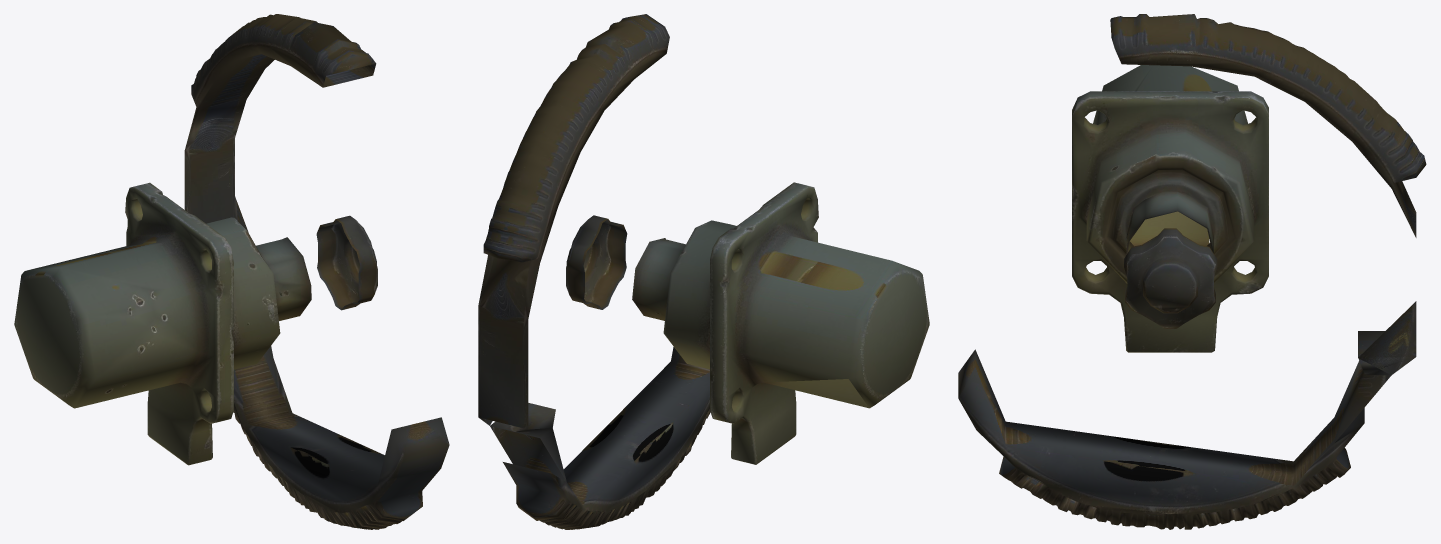
The model's file is trimwheel_remesh.glb.
3 renders of one model, left to right at view 1: azimuth 30°, elevation 25°; view 2: azimuth 150°, elevation 25°; view 3: azimuth 270°, elevation 25°, orthographic. The views are drawn at different scales.
Parts seen in each view (by area): view 1: tripo_node_008ce9b4-87fa-46de-b7b6-10154; view 2: tripo_node_008ce9b4-87fa-46de-b7b6-10154; view 3: tripo_node_008ce9b4-87fa-46de-b7b6-10154.
Part boxes in pixels (bbox=[...]): tripo_node_008ce9b4-87fa-46de-b7b6-10154: bbox=[14, 14, 449, 529]; tripo_node_008ce9b4-87fa-46de-b7b6-10154: bbox=[478, 14, 929, 529]; tripo_node_008ce9b4-87fa-46de-b7b6-10154: bbox=[958, 14, 1426, 529].
Bounding box in the file's own units: 0.6908 × 0.9843 × 0.8141.
1 material, 1 textured.
